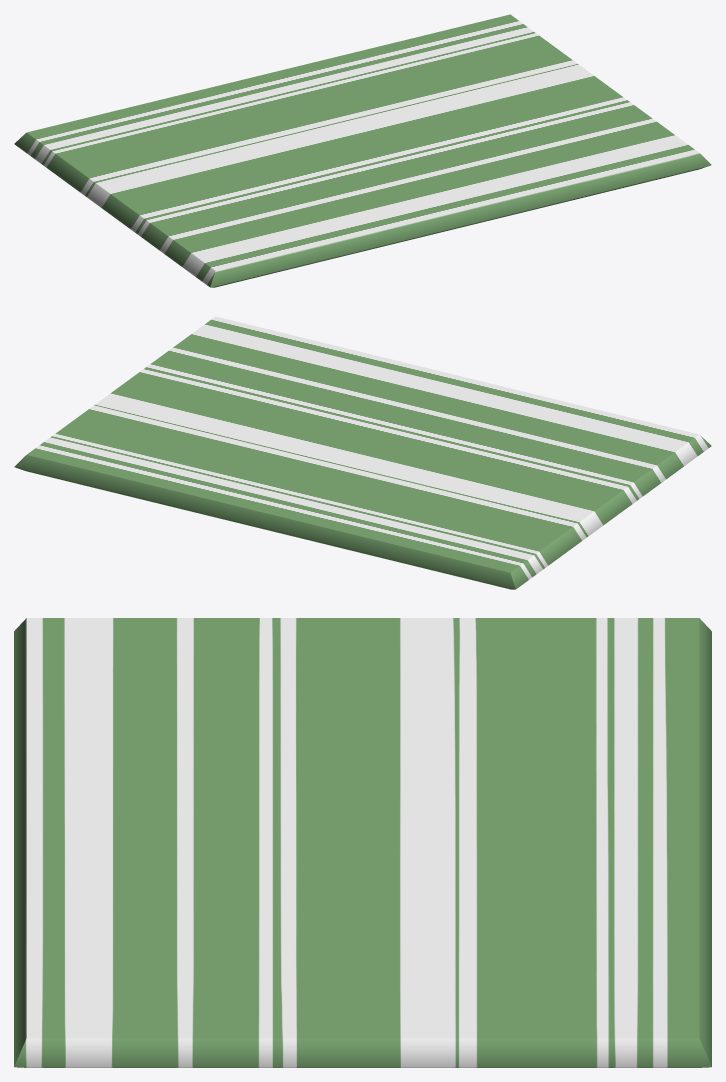
File: rectangle_Rug.fbx
3 renders of one model, top to bottom at view 1: azimuth 30°, elevation 25°; view 2: azimuth 150°, elevation 25°; view 3: azimuth 270°, elevation 25°, orthographic. The views are drawn at different scales.
Visible parts, largest first — view 1: pCube1; view 2: pCube1; view 3: pCube1.
Boxes of the visible parts, <box> form: pCube1: <box>14,14,711,287</box>; pCube1: <box>14,316,711,589</box>; pCube1: <box>14,618,711,1067</box>.
Bounding box in the file's own units: 3.35 × 0.1061 × 2.27.
1 material, 1 textured.
